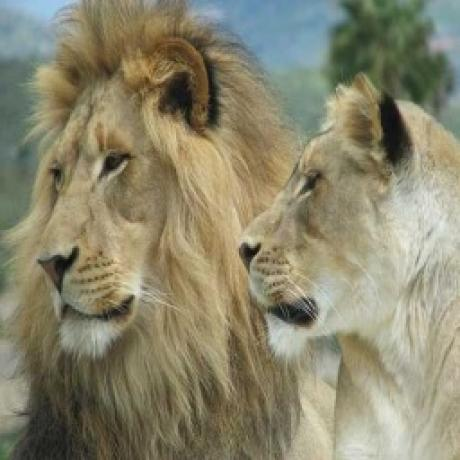Lion: (7, 0, 284, 460), (224, 55, 460, 460)
